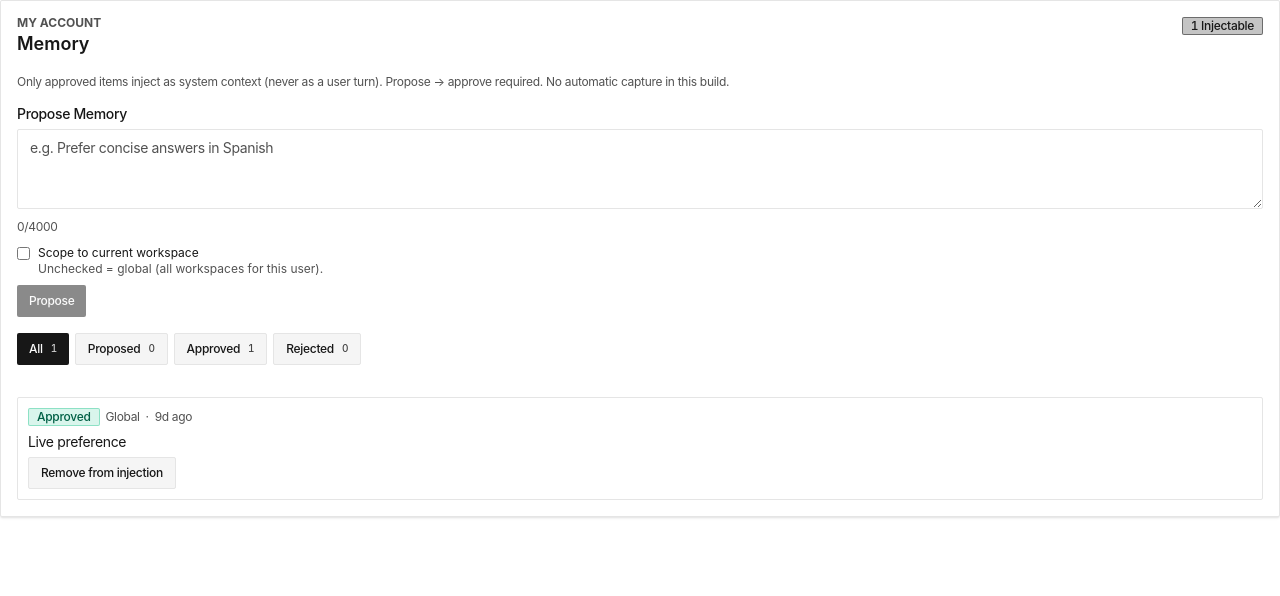
Scenario: UserMemoryPanel › Undo from Rejected after empty-Approved switch returns to Approved
This screenshot has width=1280, height=596.
Expected: the text "Live preference" is shown, [28,432,126,450]
Click the button "Approved 1" at (220, 348), box [174,332,267,364]
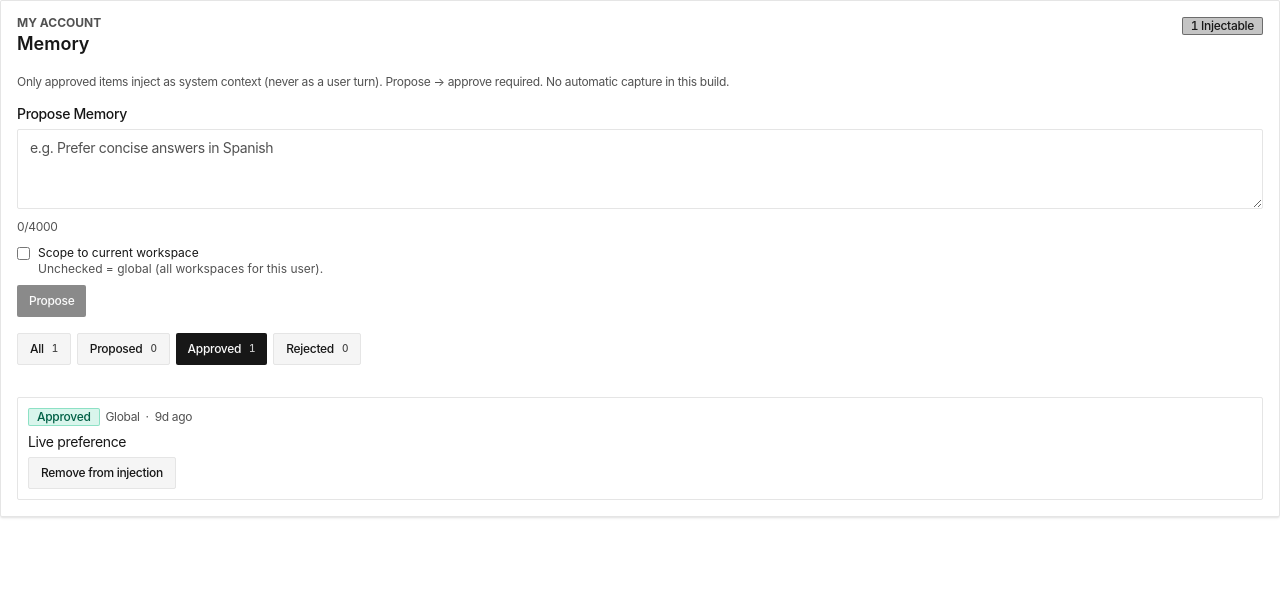
Click the button "Remove from injection" at (102, 473), box [28,457,176,489]
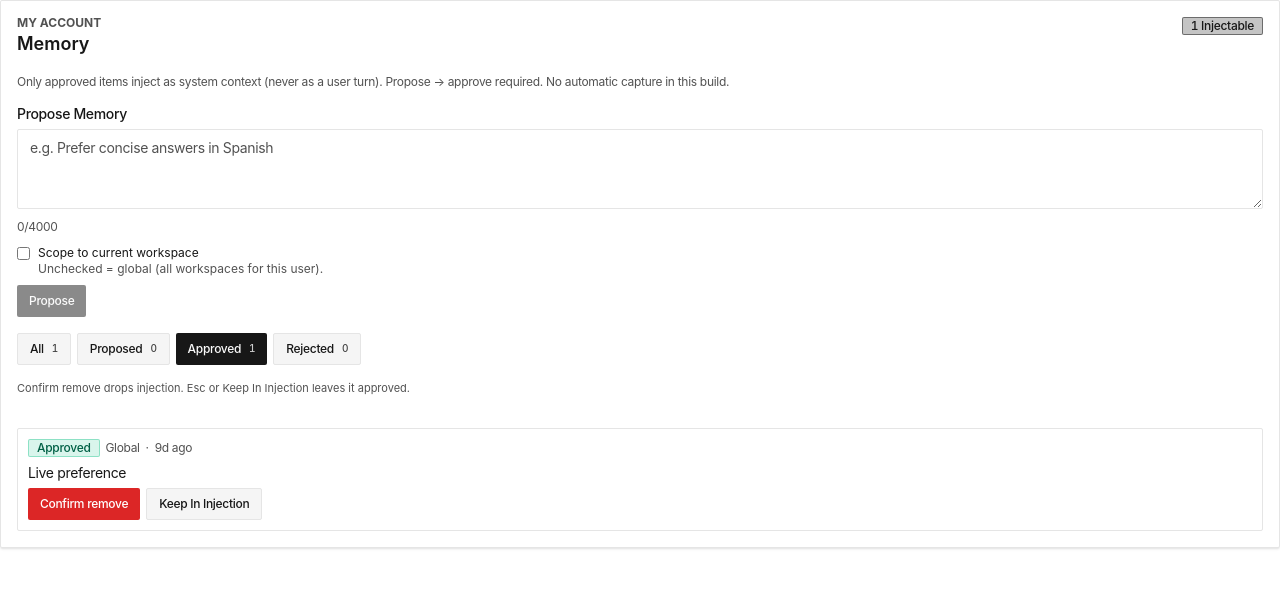
Click the button "Confirm remove" at (84, 504), box [28,488,140,520]
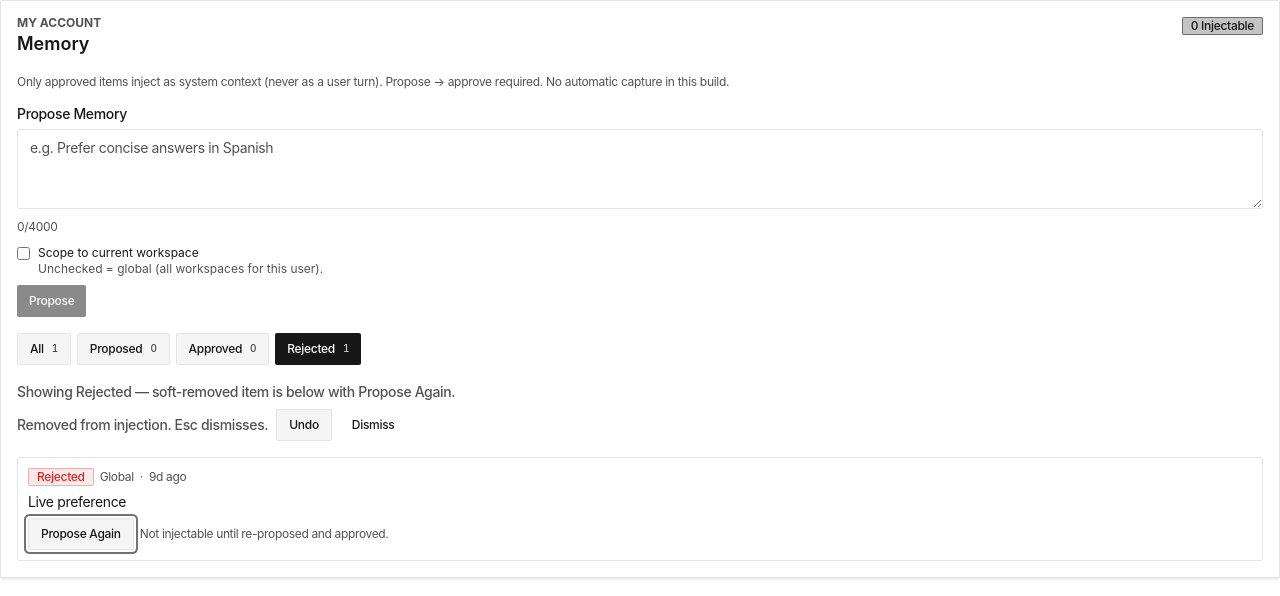
Expected: the text "Showing Rejected — soft-removed item is below with Propose Again." is shown, [17,382,455,400]
Click the button with aria-label "Undo remove from injection" at (304, 425), box [276,409,332,441]
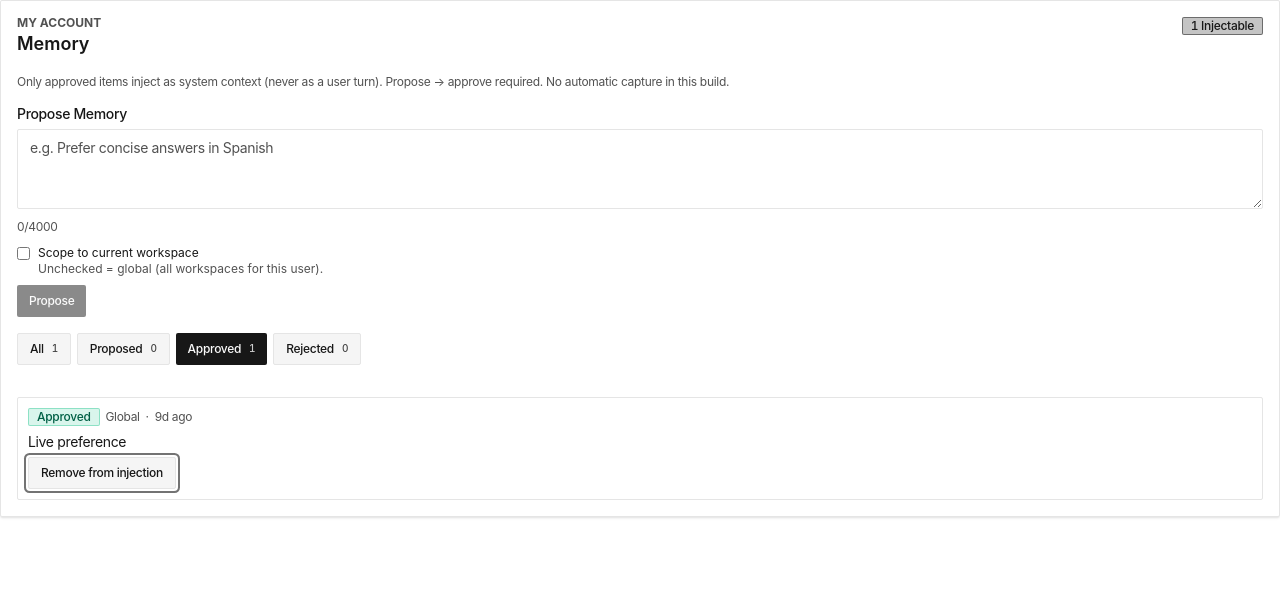
Expected: the text "Live preference" is shown, [28,432,126,450]
Expected: the text "Showing Rejected — soft-removed item is below with Propose Again" is gone
Expected: the text "1 Injectable" is shown, [1182,17,1263,35]
